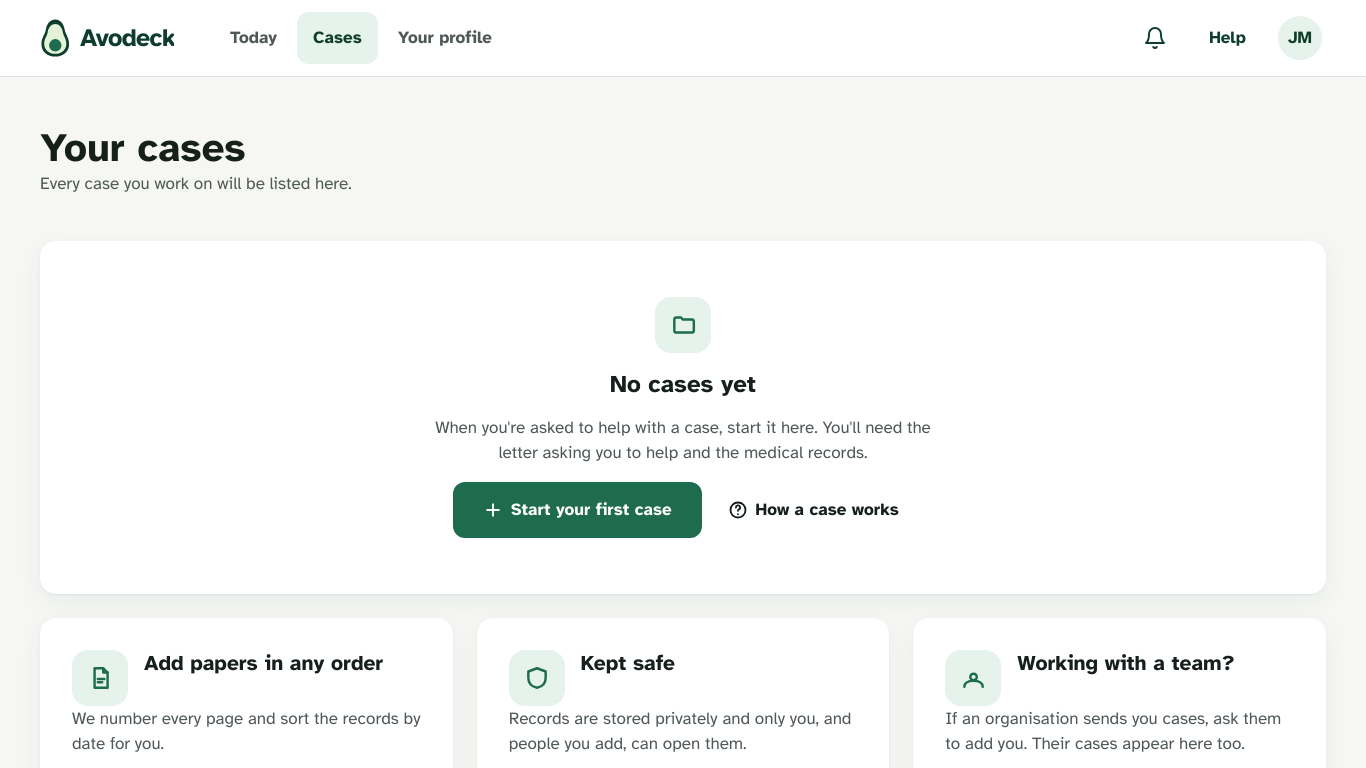
Test case: the closing note shows only on the last step, whose button finishes
Click the button "How a case works": (813, 510) [714,484,913,536]
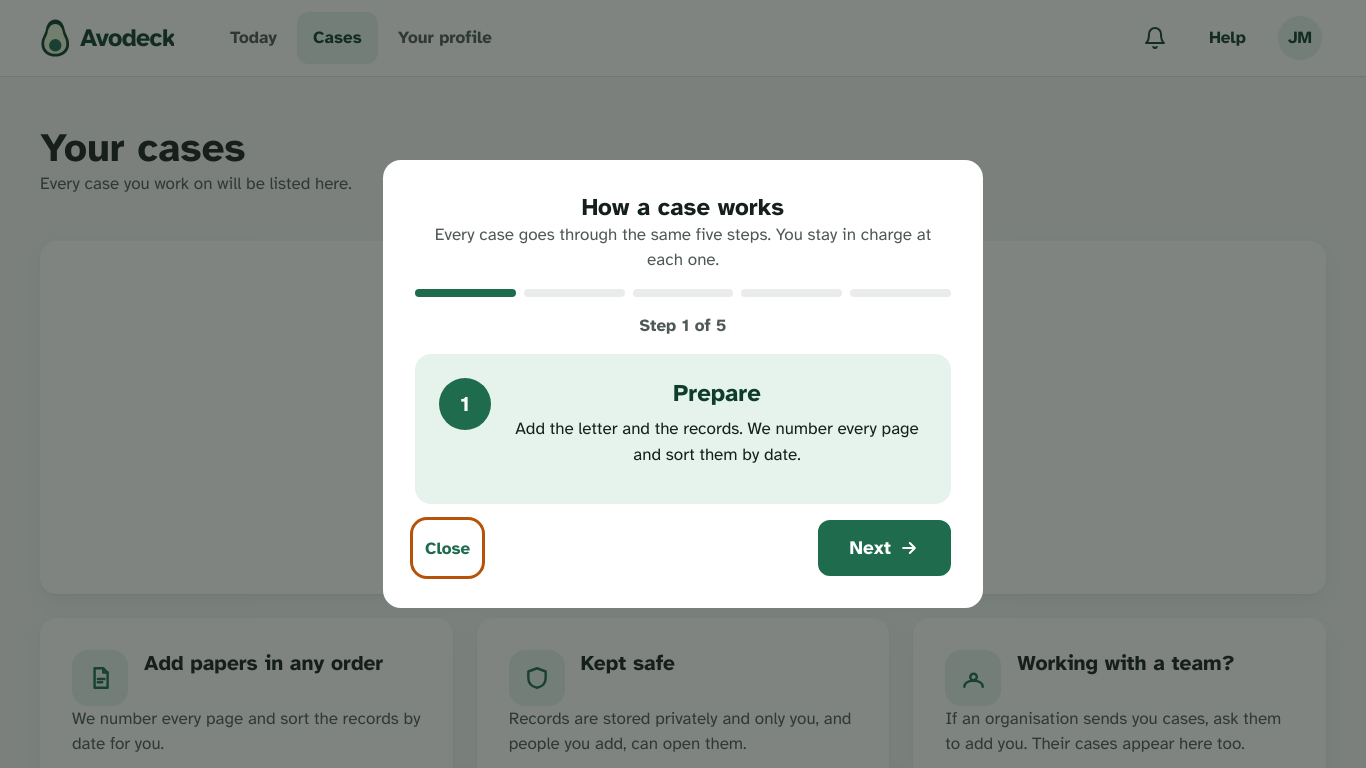
Click the button "Next": (884, 548) [818,520,951,576]
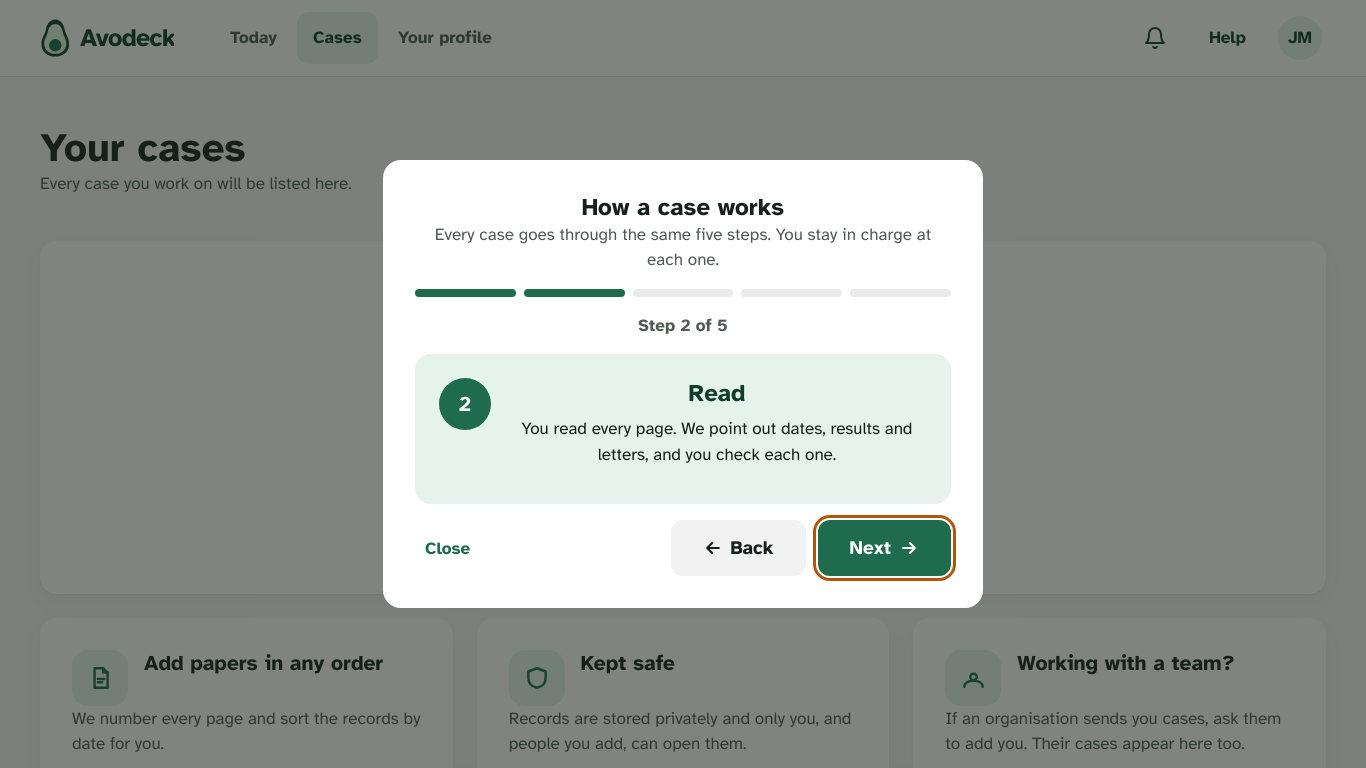
Click the button "Next": (884, 548) [818,520,951,576]
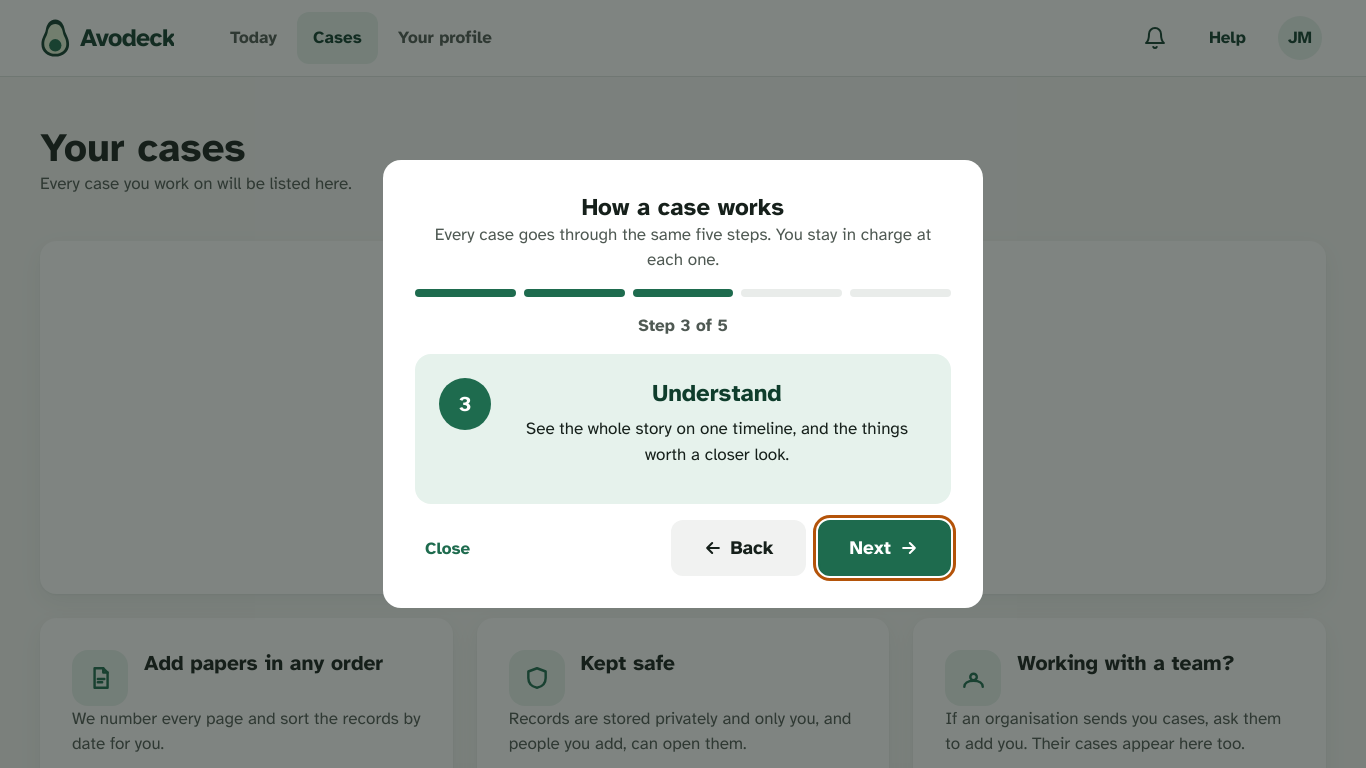
Click the button "Next": (884, 548) [818,520,951,576]
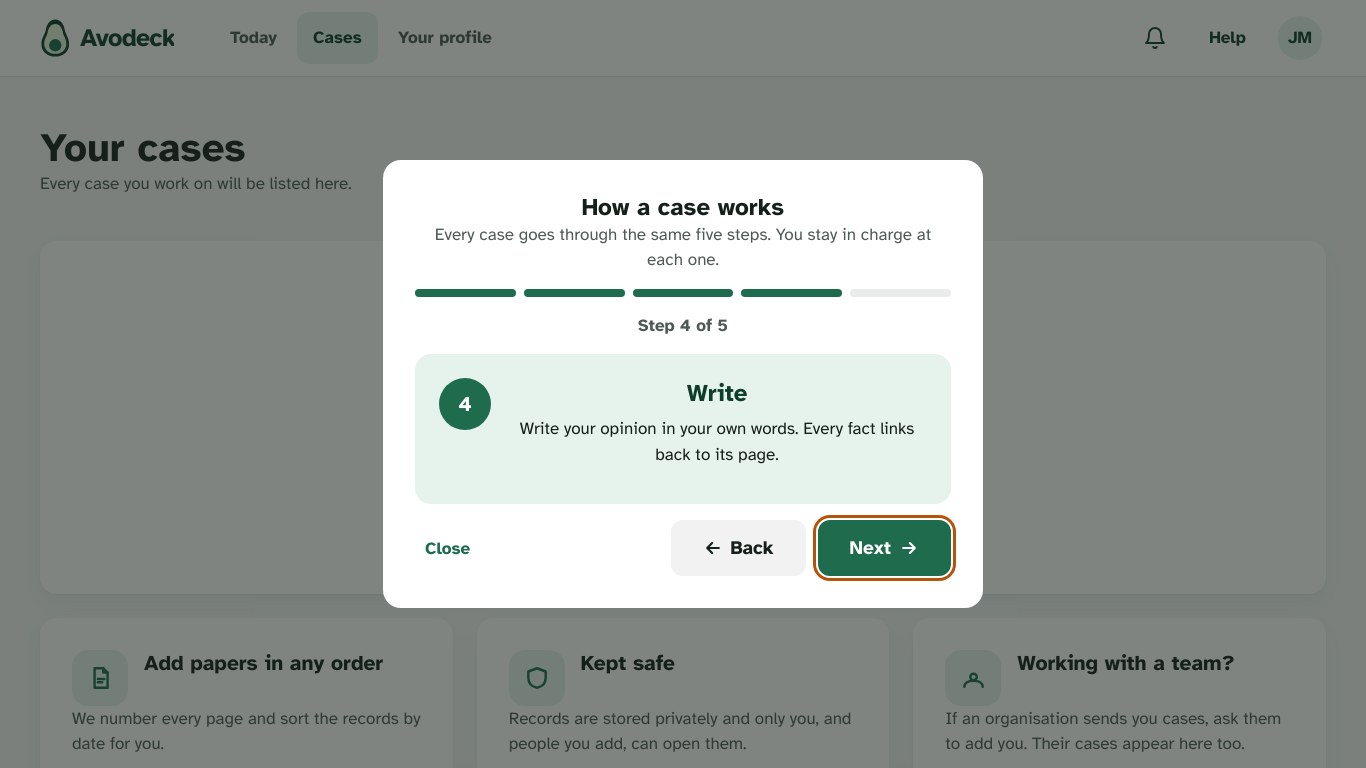
Click the button "Next": (884, 548) [818,520,951,576]
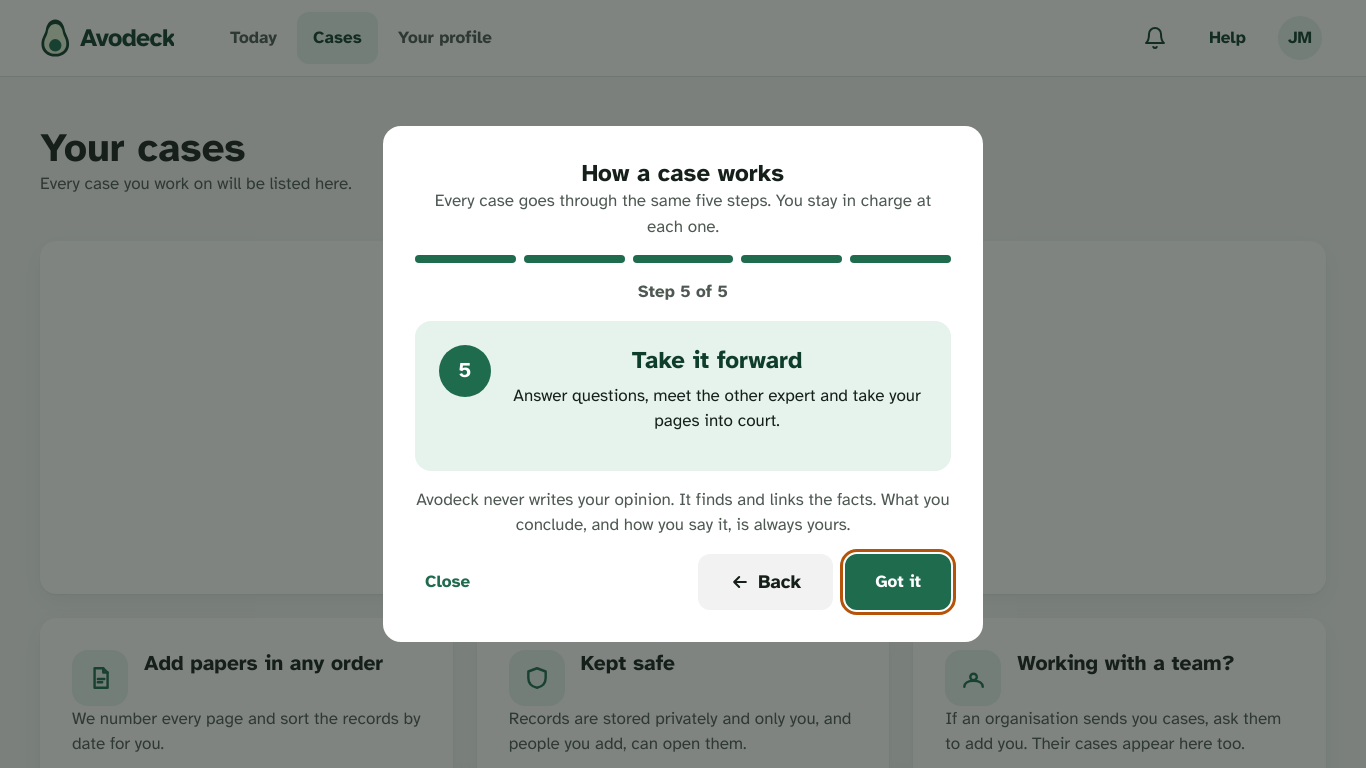
Expected: the heading "Take it forward" is shown, [632,345,802,375]
Expected: the text "Avodeck never writes your opinion. It finds and links the facts. What you conclude, and how you say it, is always yours." is shown, [416,489,950,535]
Expected: the button "Next" is gone
Click the button "Got it": (898, 582) [845,554,951,610]
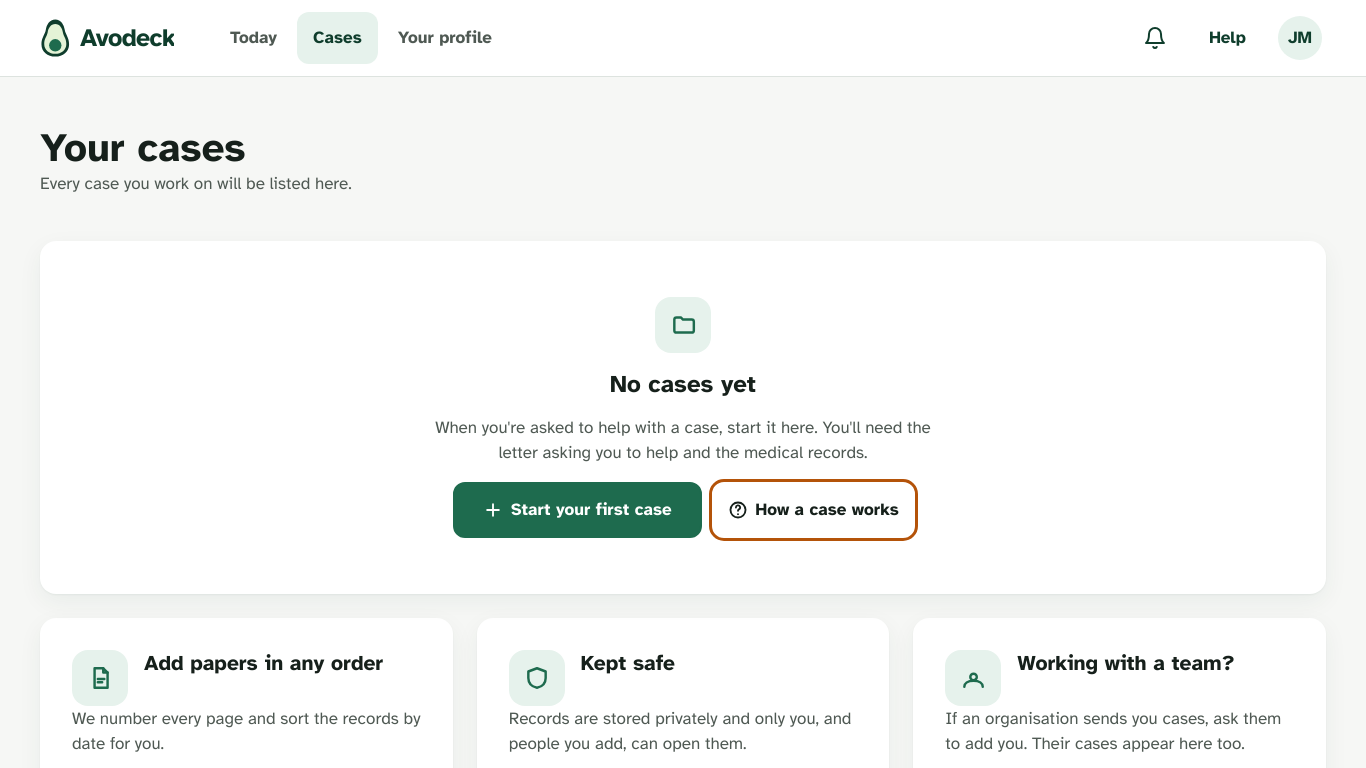
Expected: the dialog is gone
